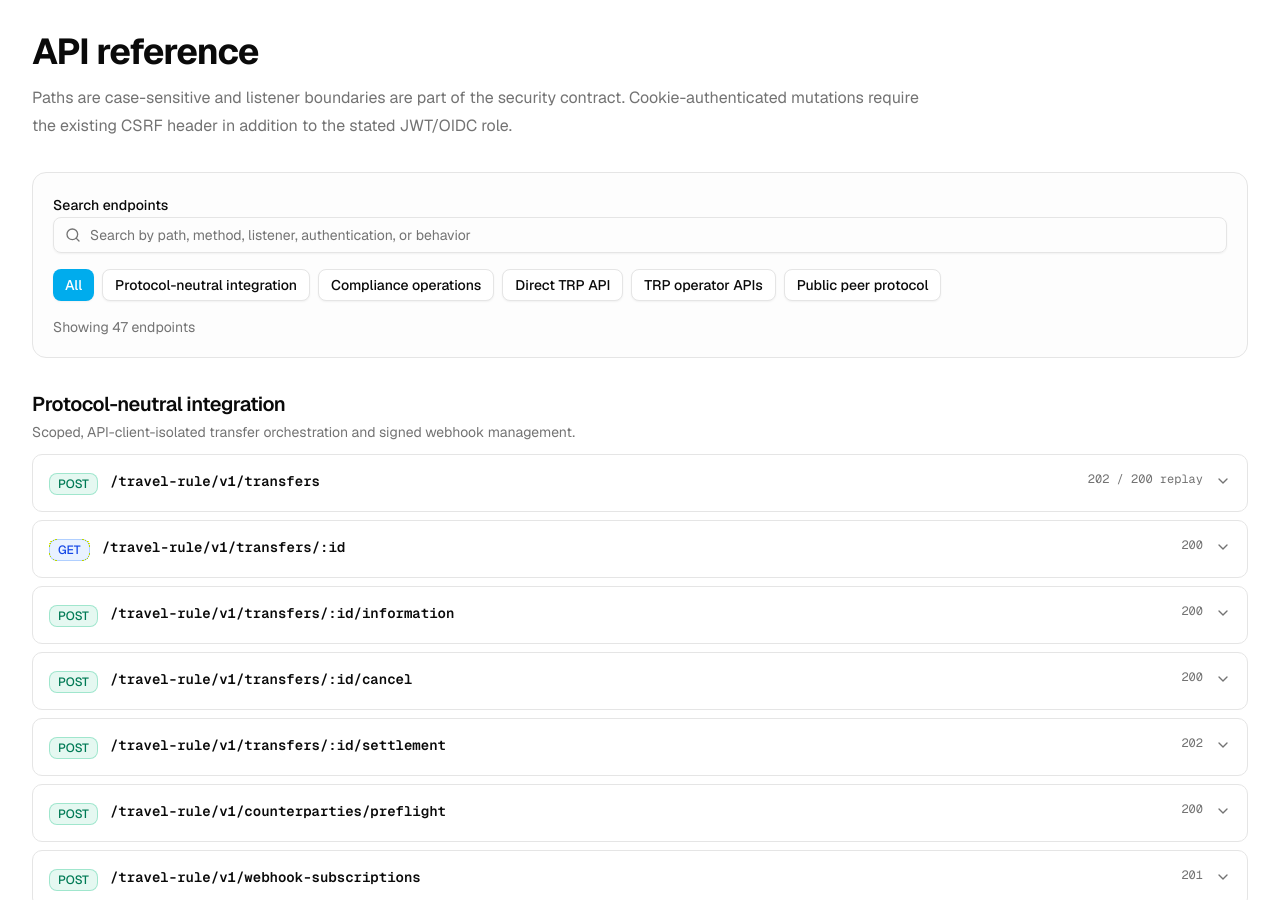
Test: shows an accessible empty state when no endpoint matches
In the search field labelled "Search endpoints": x=640, y=235 [53,217,1227,253], type "not-a-real-endpoint"
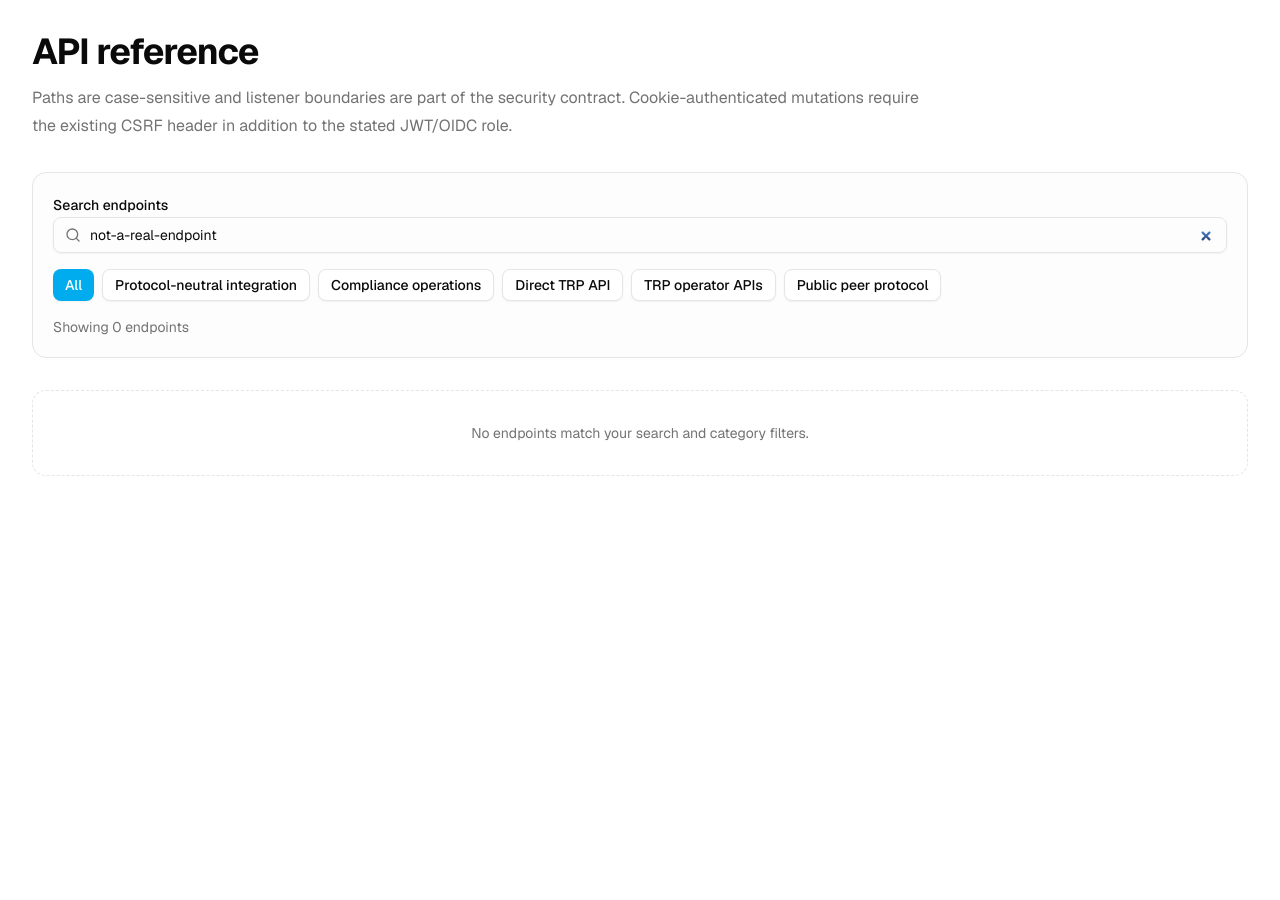
Check: the message shows "0 endpoints", box [53,318,189,336]
Check: the text "No endpoints match your search and category filters." is shown, box [32,390,1248,476]
